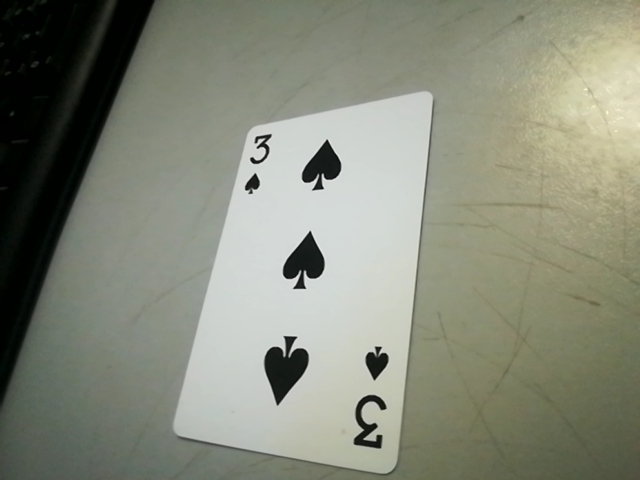ht 3: (234, 130, 283, 196)
